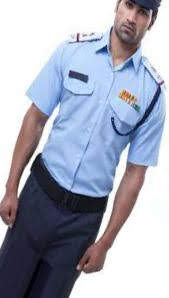uniform: (7, 16, 161, 297)
